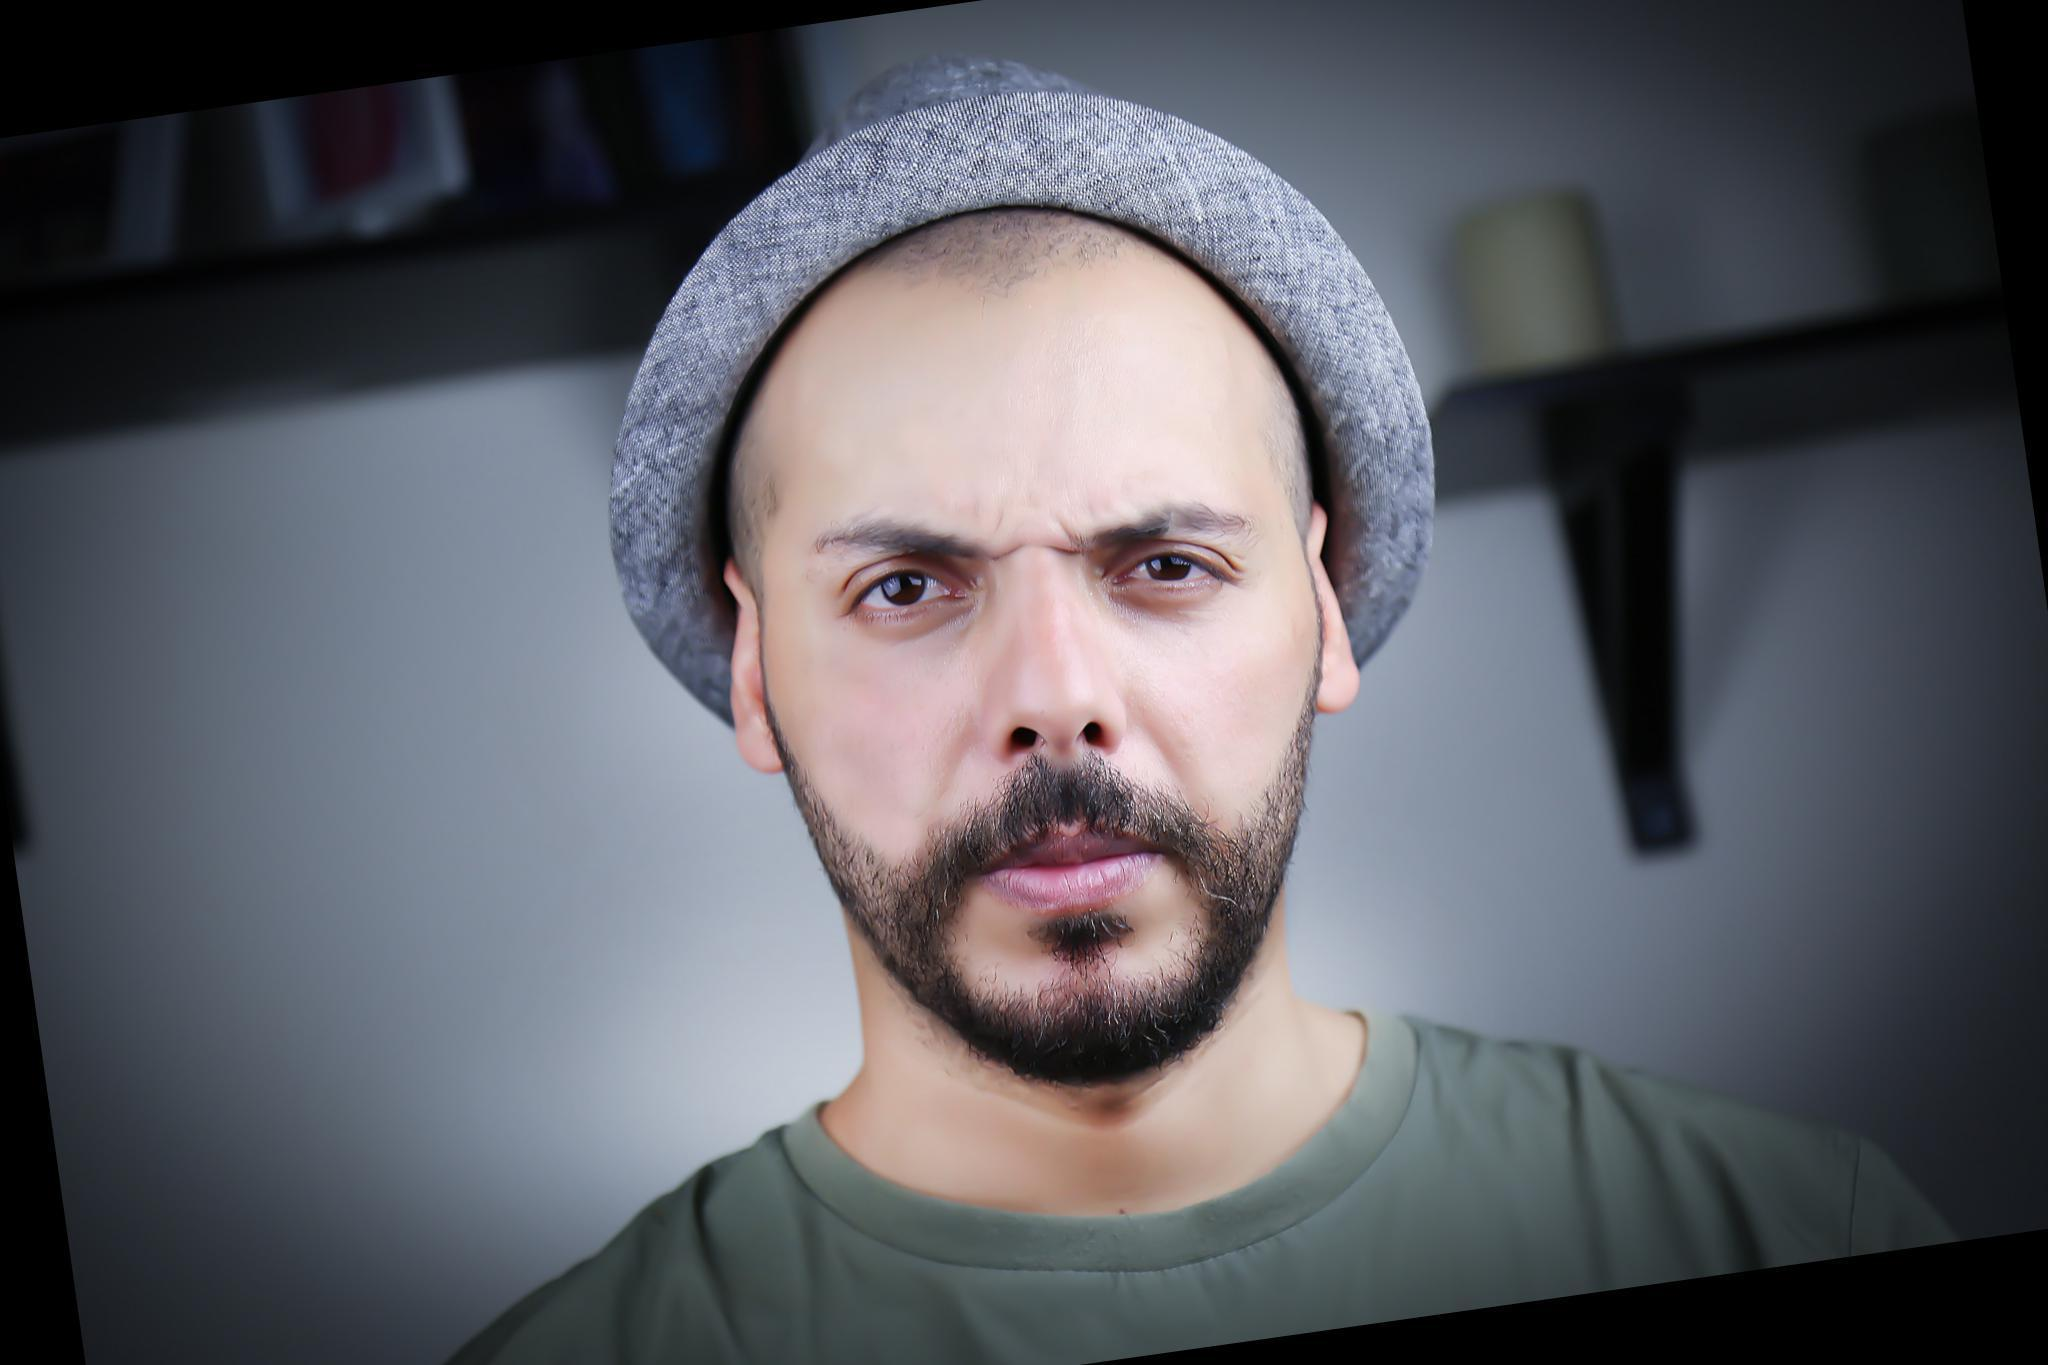Sober: (767, 334, 1302, 980)
